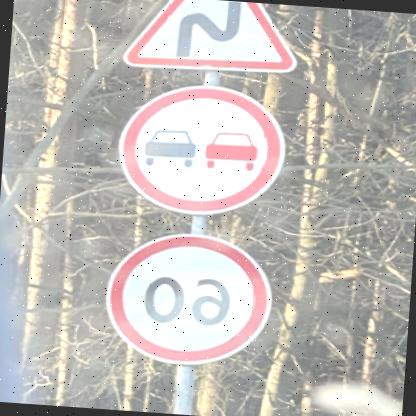speedlimit: (105, 228, 277, 370)
